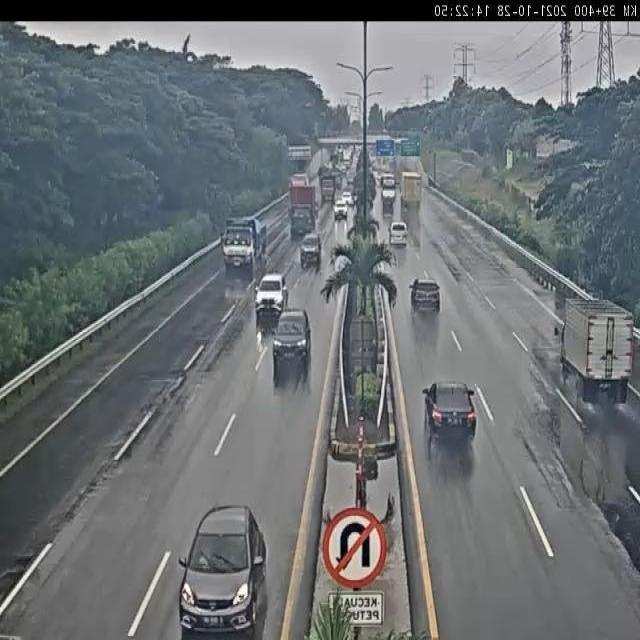Car: (177, 504, 267, 636), (422, 379, 477, 439), (272, 307, 312, 388), (254, 272, 288, 322), (412, 280, 441, 313), (334, 199, 348, 219)
Truck: (552, 294, 634, 405), (223, 214, 269, 278), (289, 175, 317, 238), (401, 170, 422, 211), (319, 171, 337, 203)
Van: (388, 221, 409, 247)
